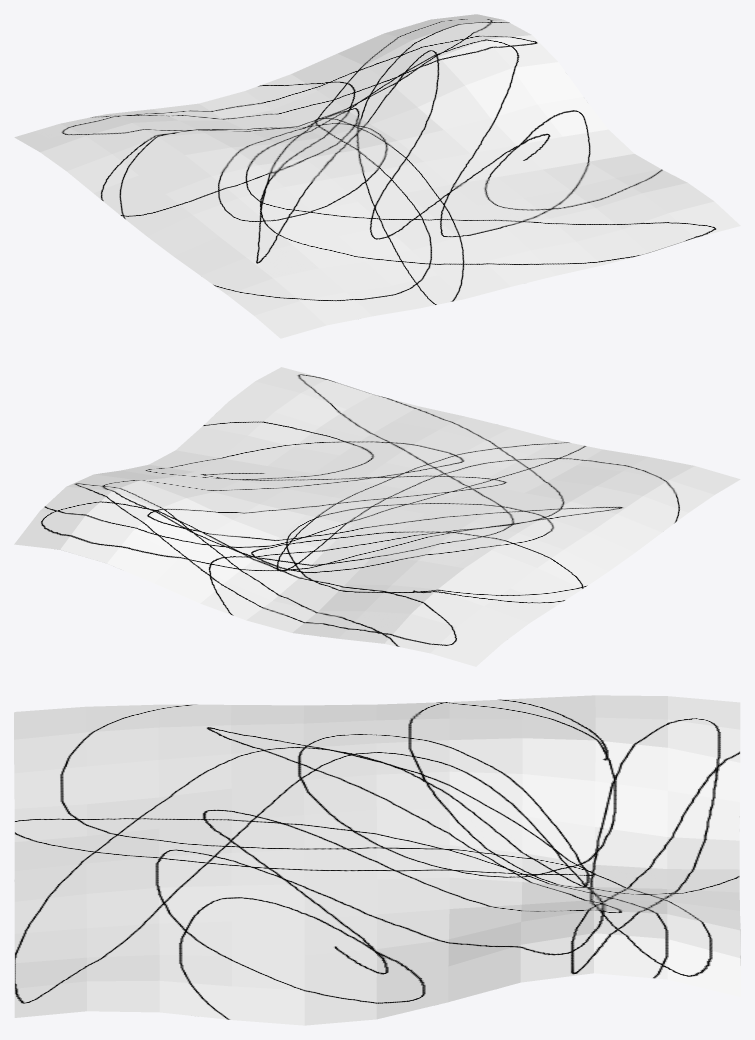
Rendered from terrain.glb.
3 renders of one model, top to bottom at view 1: azimuth 30°, elevation 25°; view 2: azimuth 150°, elevation 25°; view 3: azimuth 270°, elevation 25°, orthographic. The views are drawn at different scales.
Parts seen in each view (by area): view 1: Grid; view 2: Grid; view 3: Grid.
Part boxes in pixels (<box>): Grid: <box>14,14,740,338</box>; Grid: <box>14,367,740,666</box>; Grid: <box>14,695,740,1025</box>.
Bounding box in the file's own units: 40.43 × 3.93 × 40.12.
Materials: 1 (1 with a texture image).
